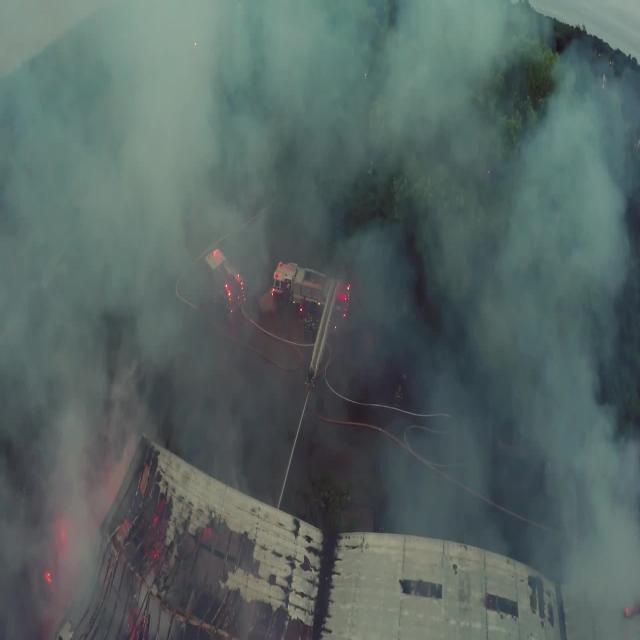Smoke: (331, 50, 640, 354), (0, 0, 164, 352), (475, 322, 640, 640), (116, 9, 374, 173)
